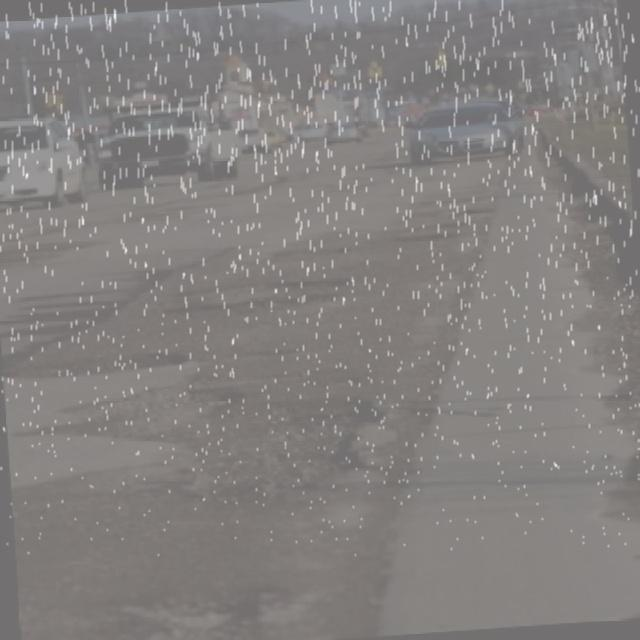Pothole: (0, 351, 242, 502), (105, 581, 331, 640), (335, 392, 424, 487), (408, 188, 493, 246), (279, 274, 370, 306)
